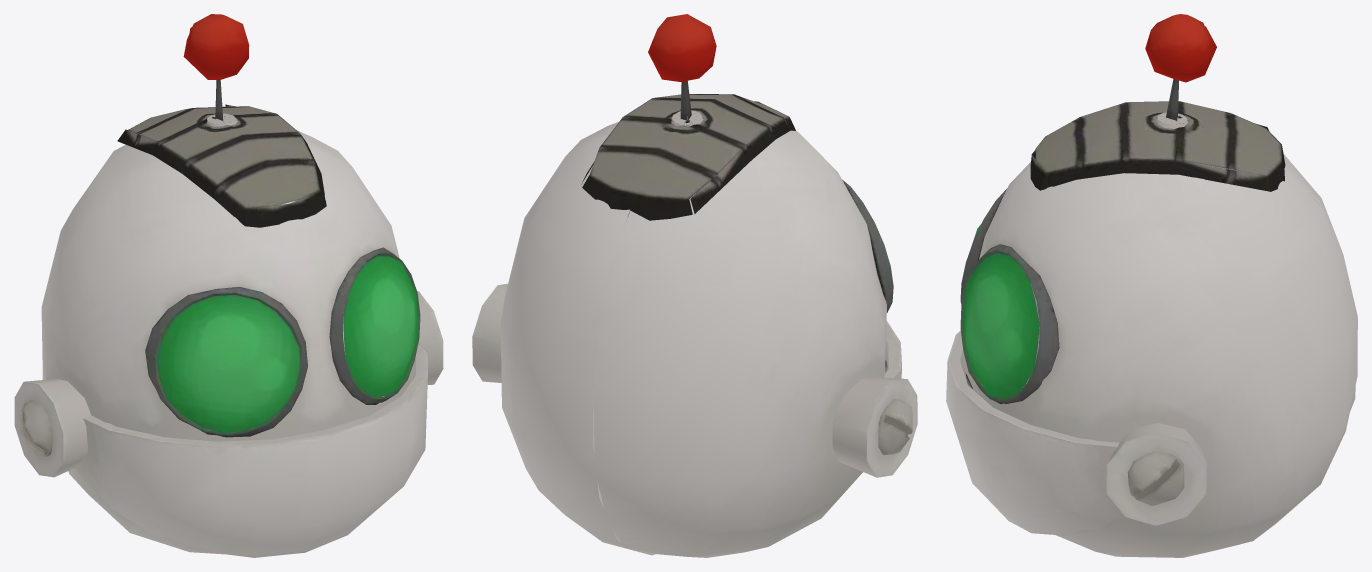
File: clank-transformed.glb
The picture shows the model from 3 angles, left to right: view 1: azimuth 30°, elevation 25°; view 2: azimuth 150°, elevation 25°; view 3: azimuth 270°, elevation 25°; orthographic projection. The views are drawn at different scales.
Parts seen in each view (by area): view 1: clank; view 2: clank; view 3: clank.
Part boxes in pixels (box(x1,y1,x2,y2)): clank: box(14, 14, 443, 557); clank: box(472, 14, 917, 557); clank: box(946, 14, 1357, 557).
Bounding box in the file's own units: 7.35 × 8.73 × 6.23.
Materials: 1 (1 with a texture image).
